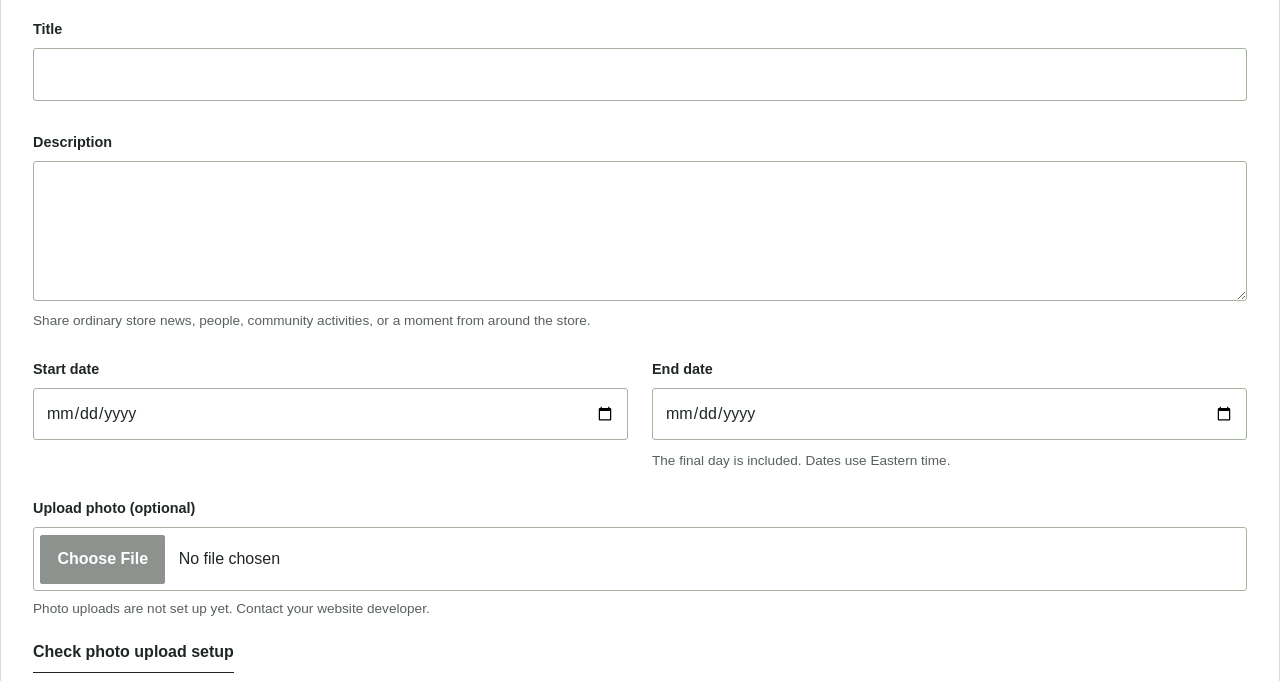
Test: preserves entered values and the new record identity across successful and failed saves
Type "Community news" into the field labelled "Title" at (640, 74), box [33, 48, 1247, 101]
Type "An ordinary store update." into the text box labelled "Description" at (640, 231), box [33, 161, 1247, 301]
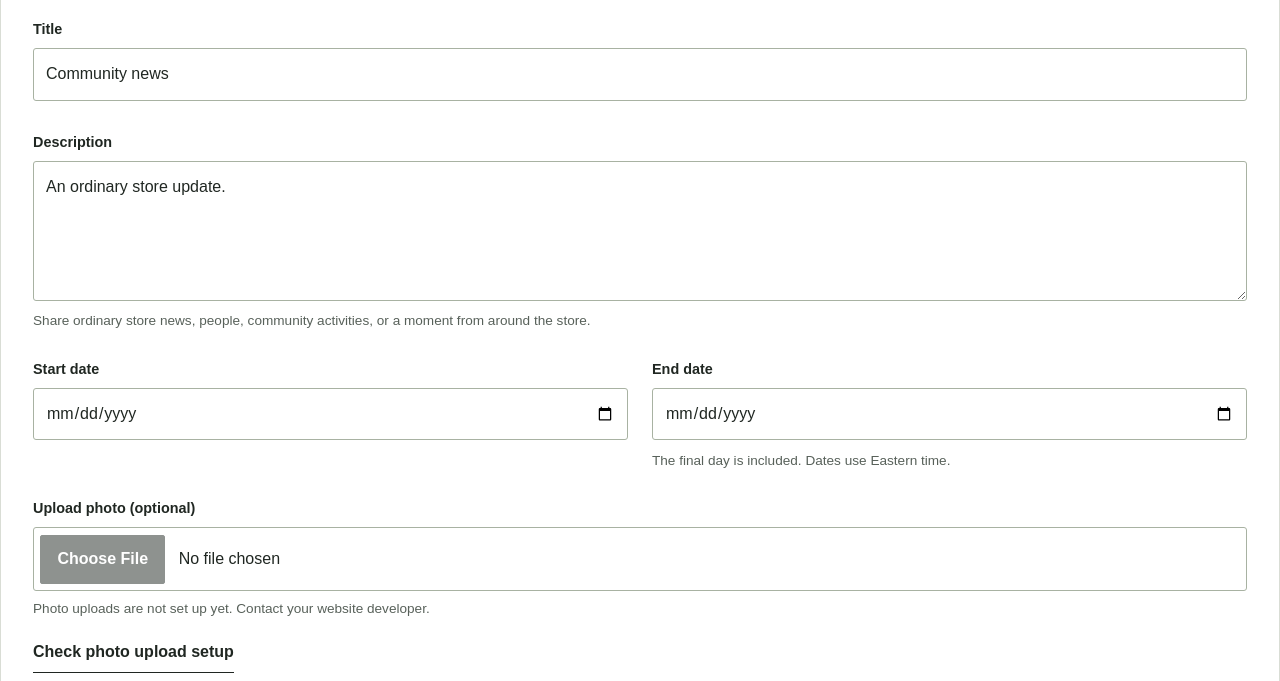
Type "2026-09-01" into the date field labelled "Start date" at (330, 414), box [33, 388, 628, 440]
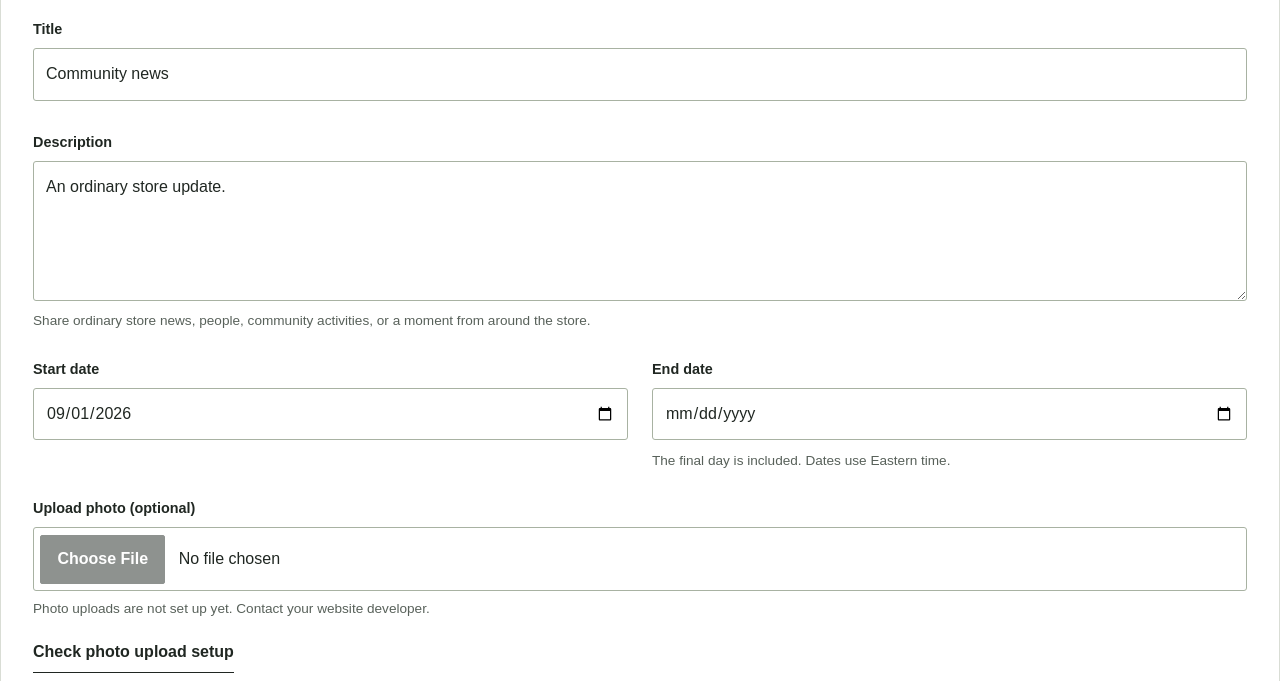
Type "2026-09-30" into the date field labelled "End date" at (950, 414), box [652, 388, 1247, 440]
(page scrolled)
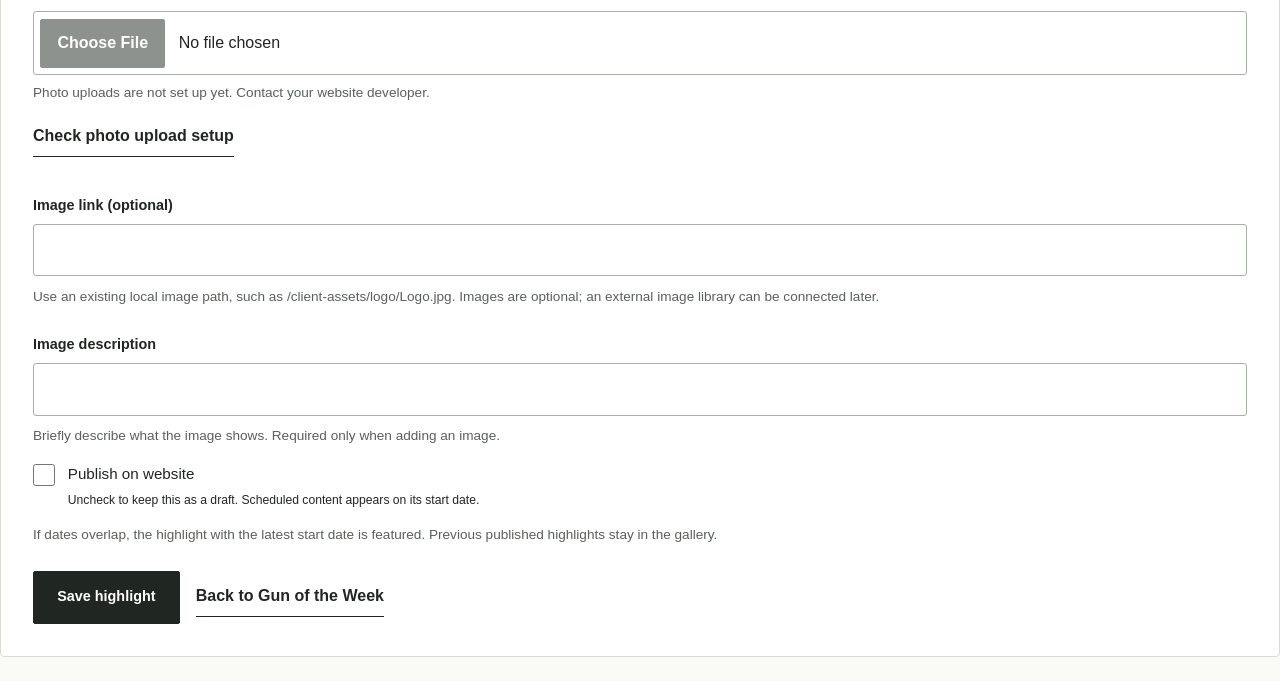
Click the button "Save highlight" at (106, 597), box [33, 571, 180, 624]
(page scrolled)
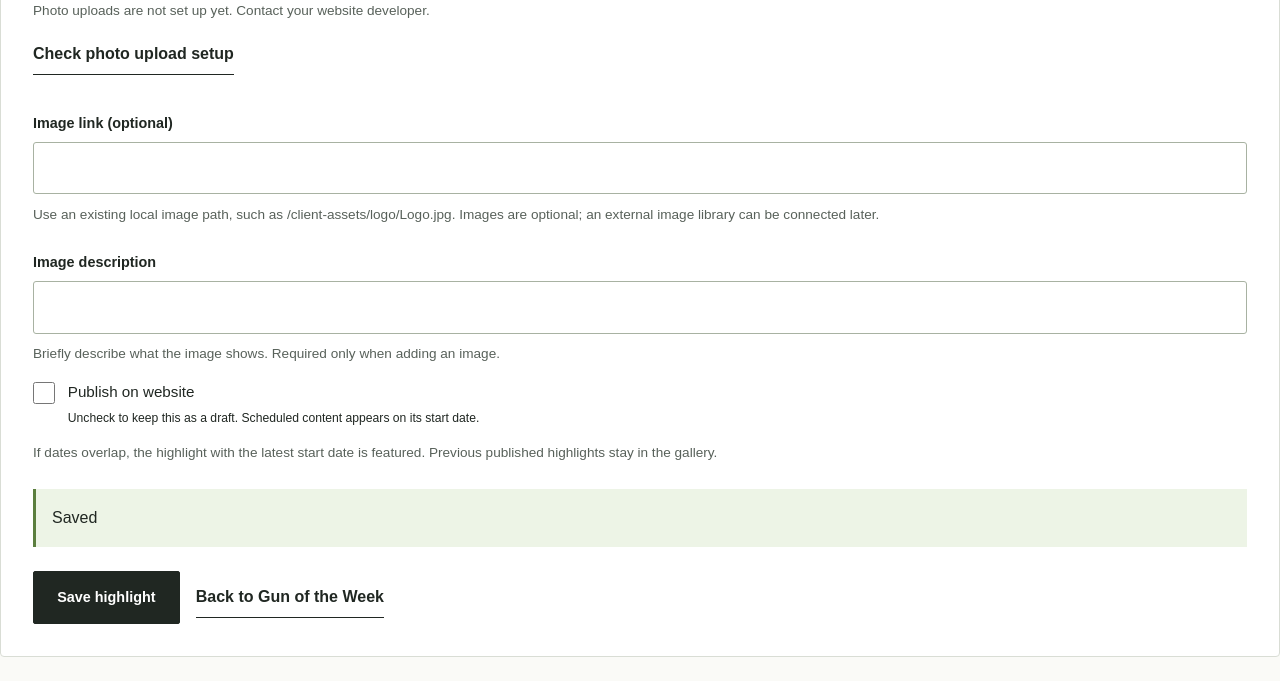
Expected: the text "Saved" is shown, [33, 489, 1247, 547]
Click the button "Save highlight" at (106, 598), box [33, 571, 180, 624]
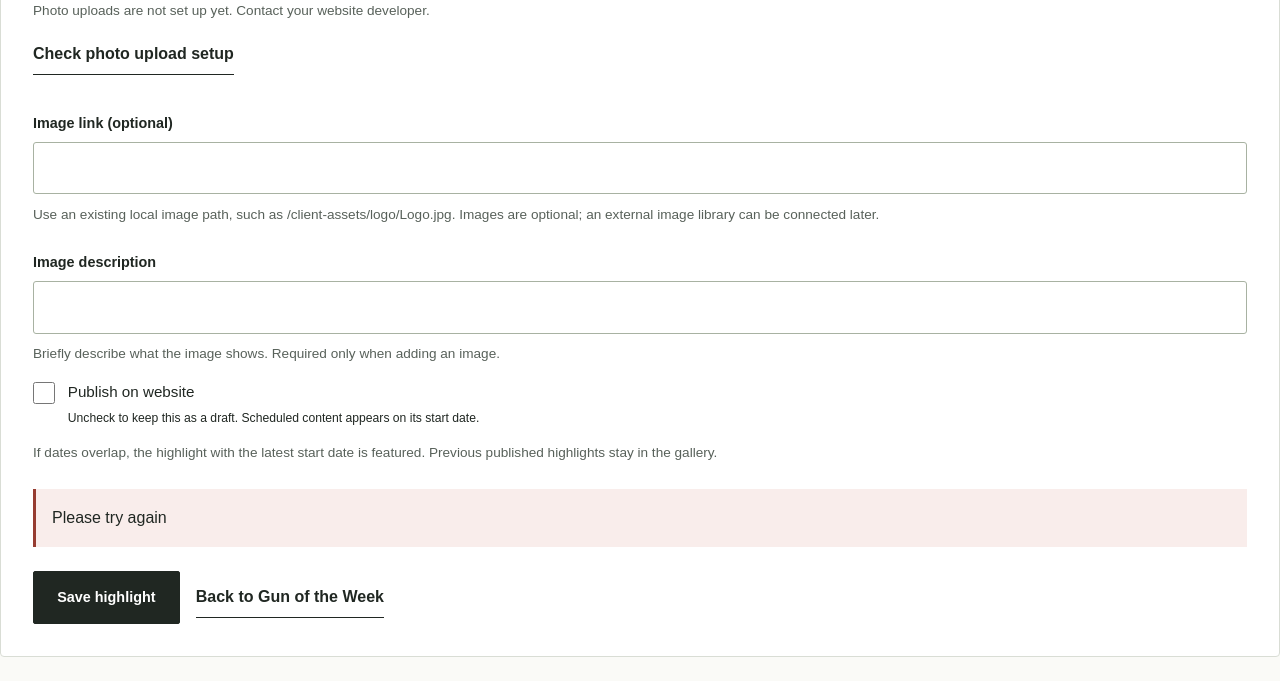
Expected: the text "Please try again" is shown, [33, 489, 1247, 547]
Click the button "Save highlight" at (106, 598), box [33, 571, 180, 624]
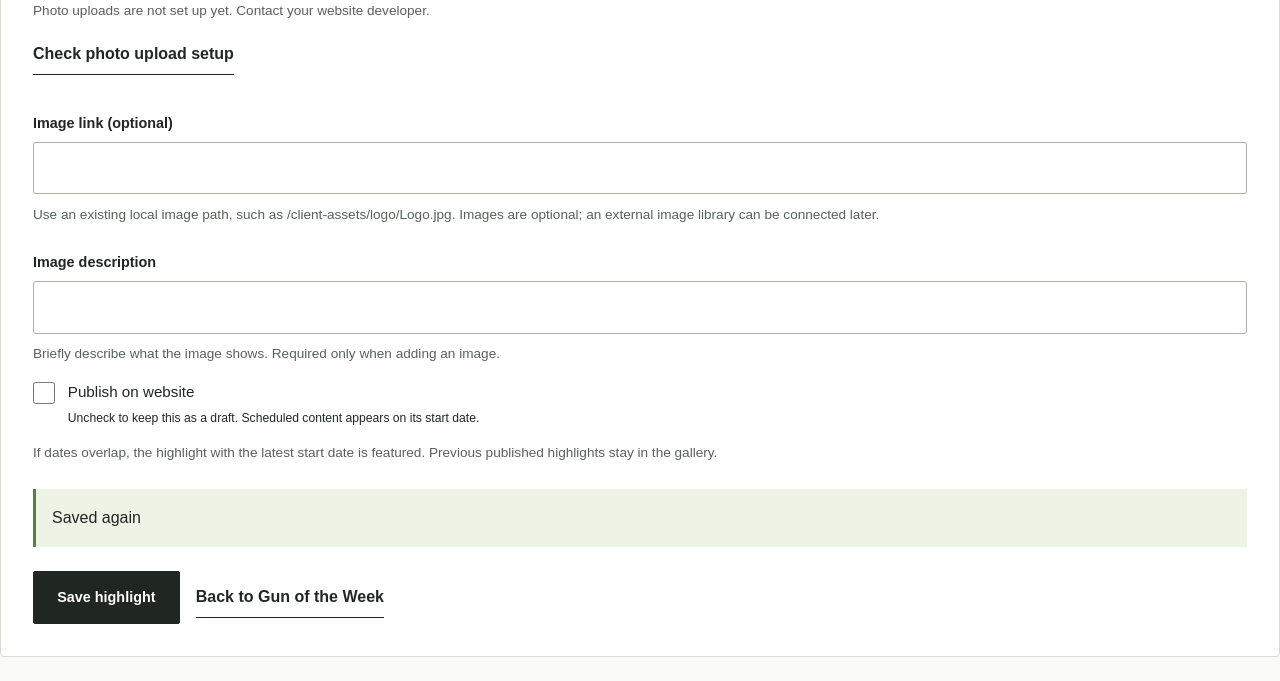
Expected: the text "Saved again" is shown, [33, 489, 1247, 547]
